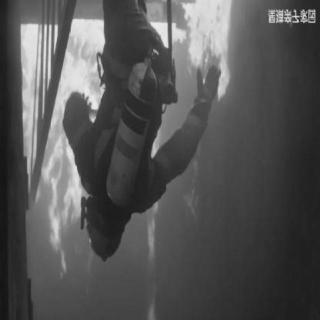Fire: (26, 18, 112, 282), (148, 3, 236, 257)
